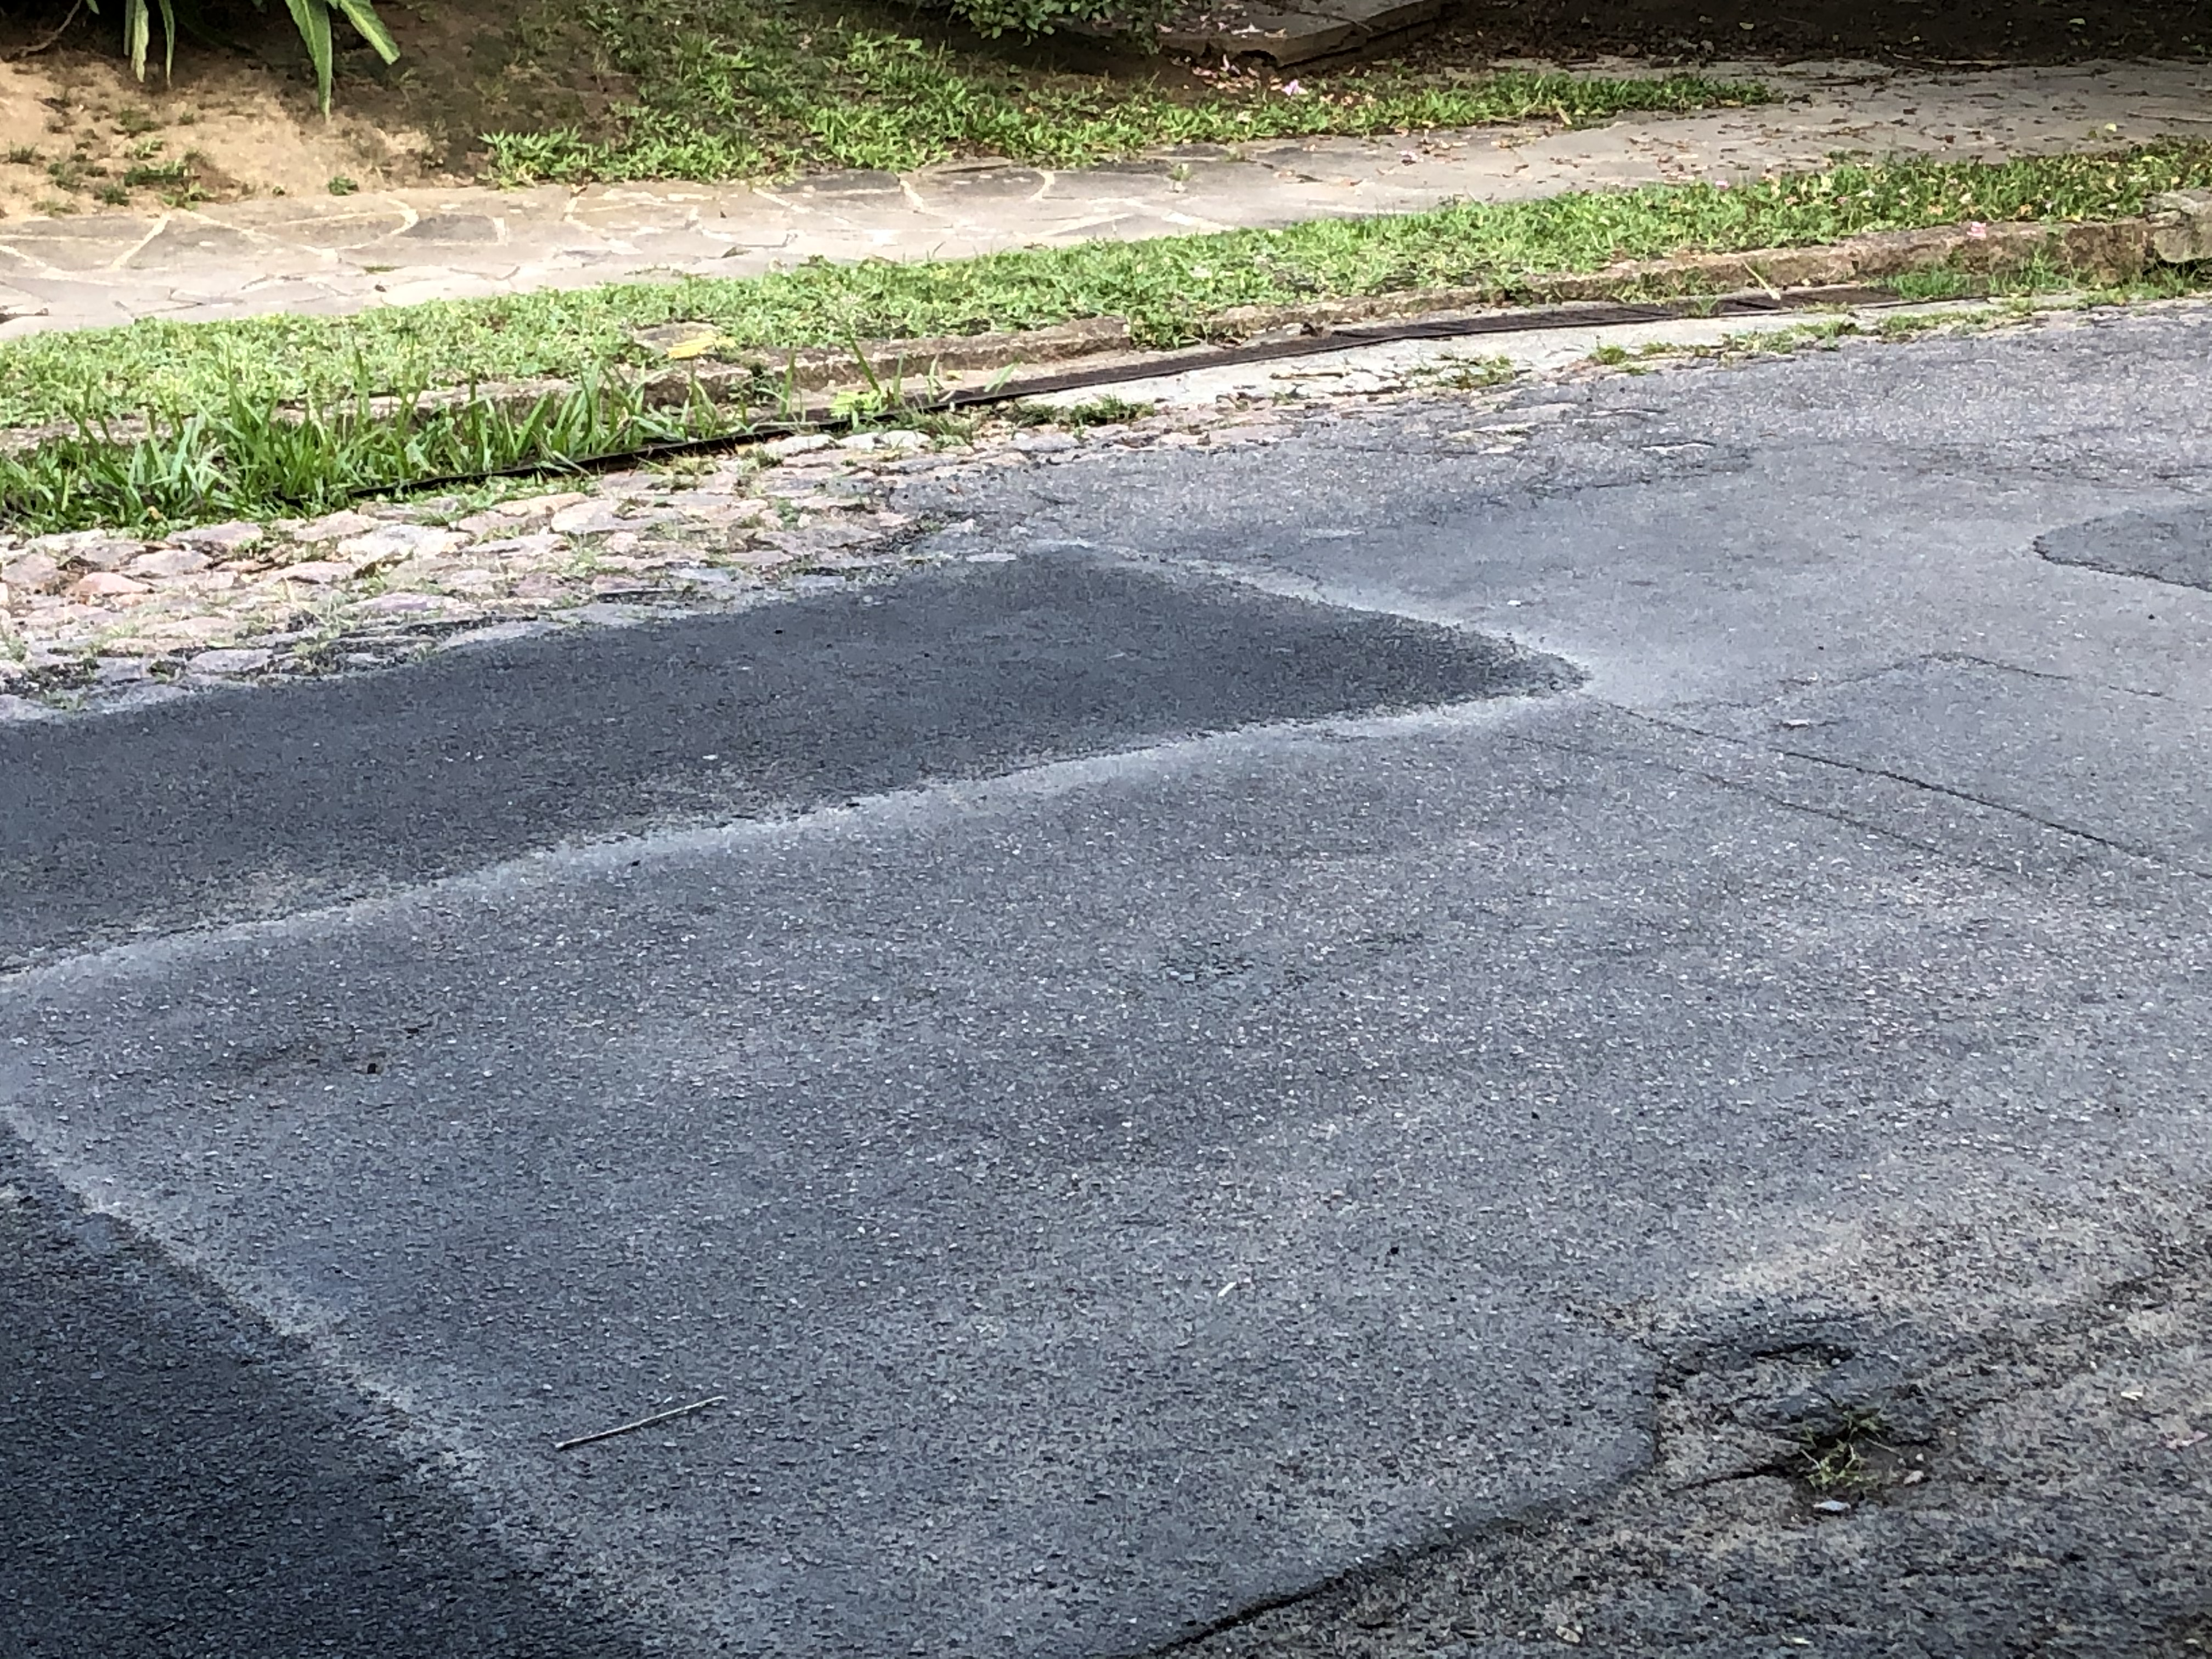vag33: (0, 101, 2198, 640)
